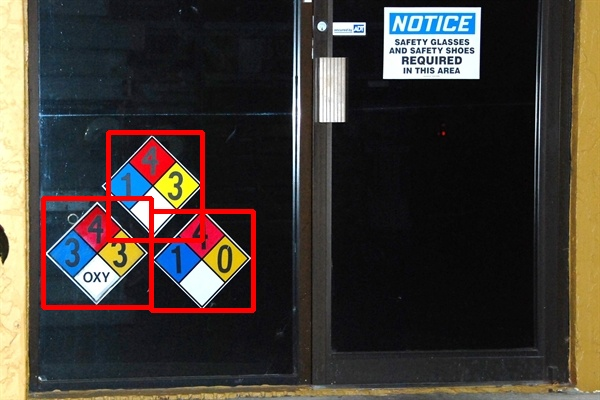nfpa: (43, 198, 151, 307), (108, 132, 202, 240), (151, 211, 253, 310)
